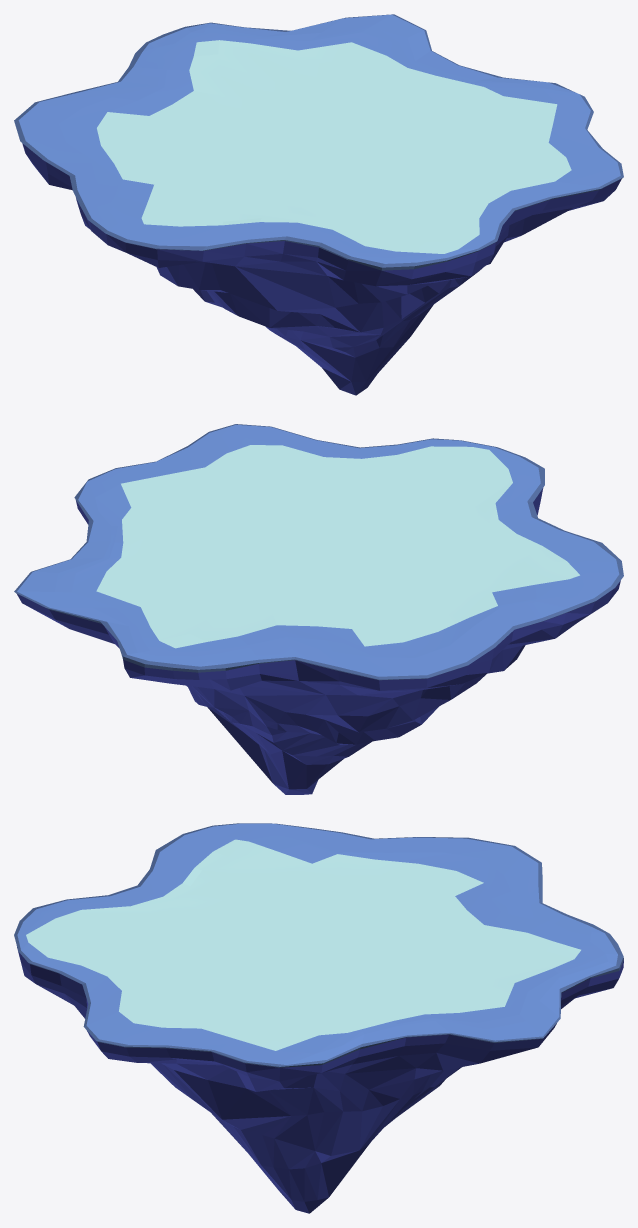
File: Isla_Inicio.fbx
The picture shows the model from 3 angles, top to bottom: view 1: azimuth 30°, elevation 25°; view 2: azimuth 150°, elevation 25°; view 3: azimuth 270°, elevation 25°; orthographic projection.
Visible parts, largest first — view 1: island_A_03; view 2: island_A_03; view 3: island_A_03.
Boxes of the visible parts, bbox=[...] form: island_A_03: bbox=[14, 14, 623, 395]; island_A_03: bbox=[14, 424, 623, 794]; island_A_03: bbox=[14, 823, 623, 1213].
Bounding box in the file's own units: 1736 × 841 × 1839.
